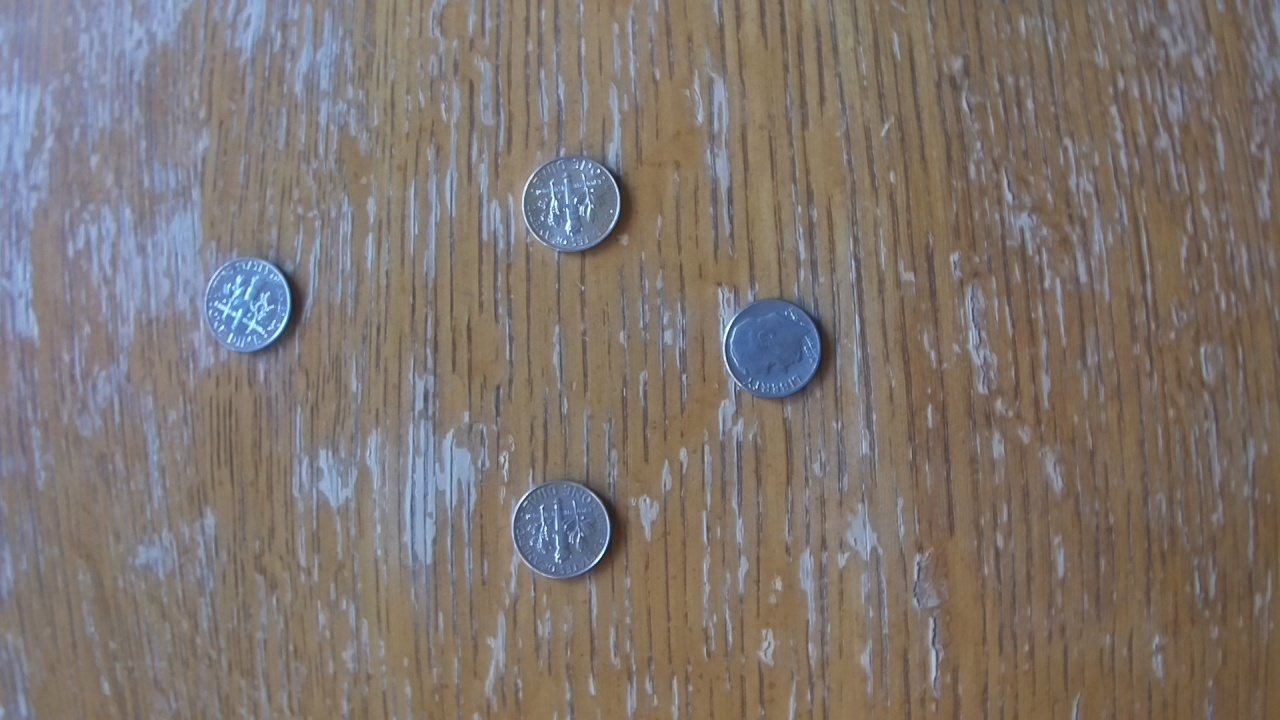dime: (508, 476, 618, 586), (516, 152, 628, 258), (720, 295, 828, 403), (200, 254, 300, 356)
